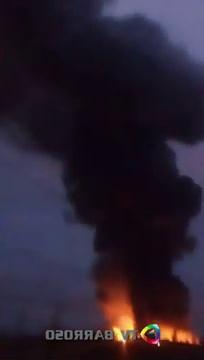fire: (111, 310, 138, 345)
smoke: (81, 38, 179, 237)
